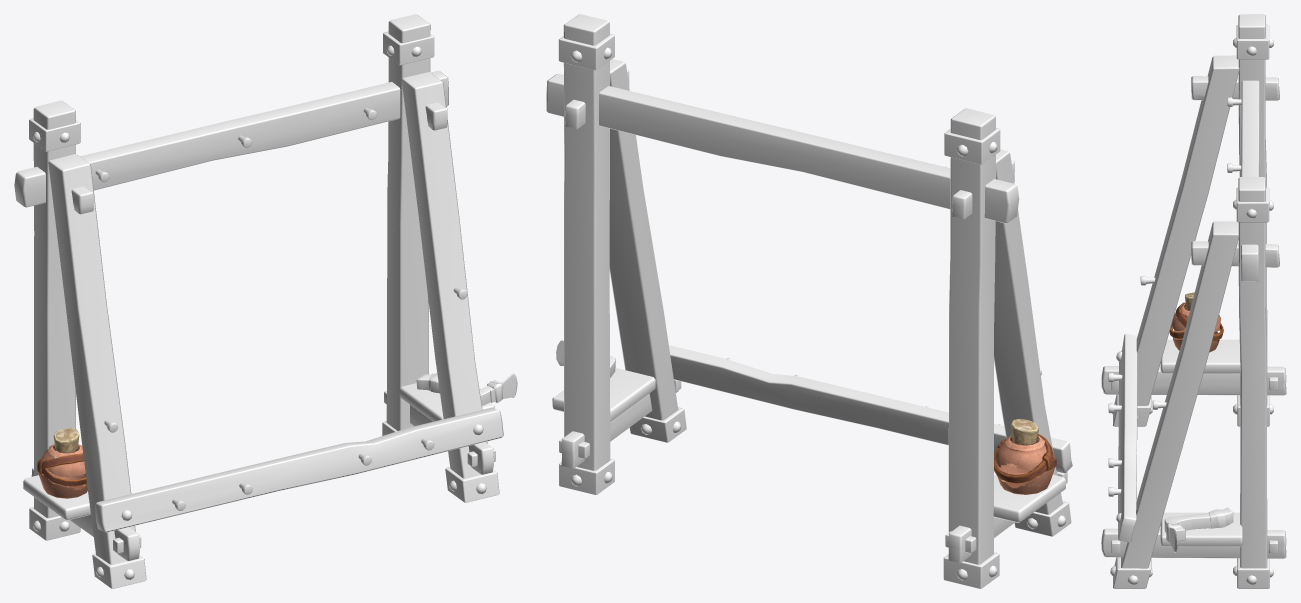
3 renders of one model, left to right at view 1: azimuth 30°, elevation 25°; view 2: azimuth 150°, elevation 25°; view 3: azimuth 270°, elevation 25°, orthographic. The views are drawn at different scales.
Parts seen in each view (by area): view 1: SM_Advanced_Tanning_Rack_V2_LOD0; view 2: SM_Advanced_Tanning_Rack_V2_LOD0; view 3: SM_Advanced_Tanning_Rack_V2_LOD0.
Part boxes in pixels (<box>): SM_Advanced_Tanning_Rack_V2_LOD0: <box>14,14,517,588</box>; SM_Advanced_Tanning_Rack_V2_LOD0: <box>546,14,1072,588</box>; SM_Advanced_Tanning_Rack_V2_LOD0: <box>1101,14,1286,588</box>.
Size of the model in its own units: 1.76 by 1.53 by 0.6426.
2 materials, 2 textured.
